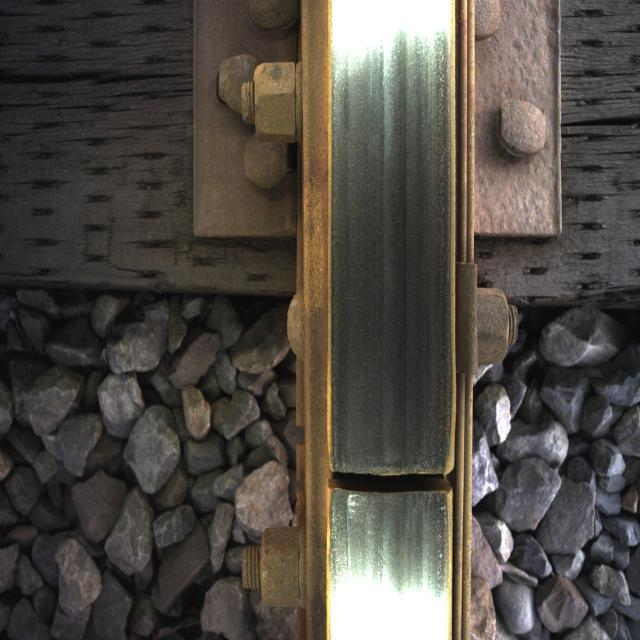spalling: (306, 422, 476, 550)
